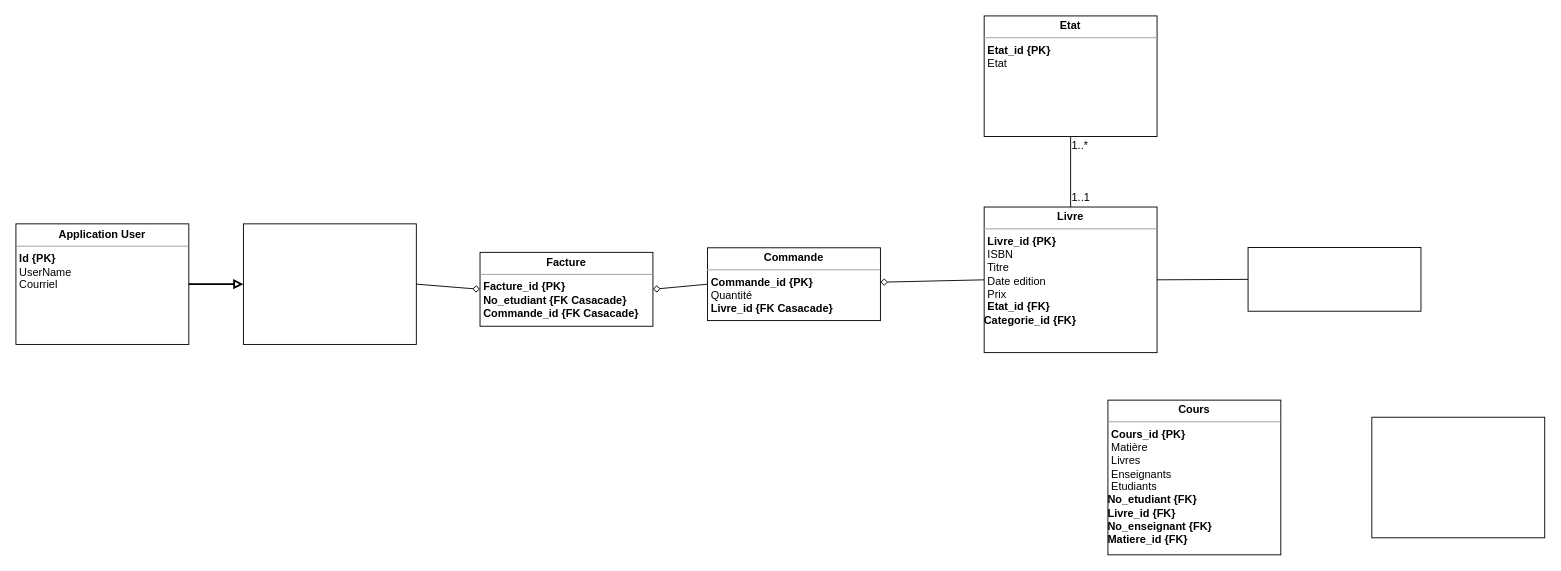
Image size: 1561x571. Some labels were removed from this diagram. Each missing label, with the box of its shape:
Categorie Categorie_id {PK} Nom: (1247, 247, 1421, 311)
Etudiant No_etudiant {PK}: (243, 223, 416, 344)
Evenement Evenement_id {PK} Nom evenement Organisateur {FK?}: (1371, 416, 1545, 538)
